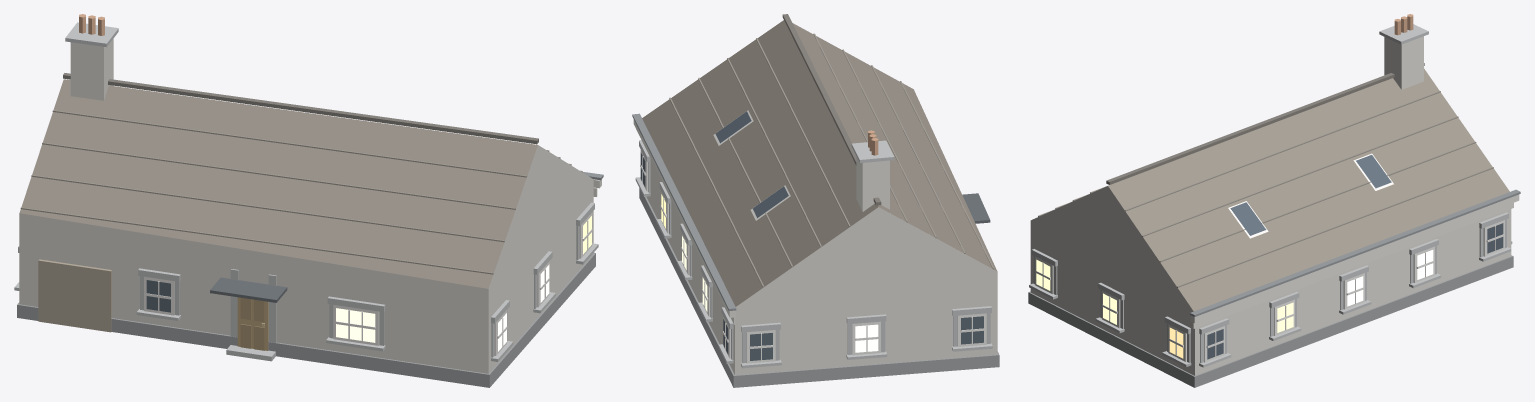
3 views of the same model, side by side, from view 1: azimuth 30°, elevation 25°; view 2: azimuth 150°, elevation 25°; view 3: azimuth 270°, elevation 25° (orthographic). The views are drawn at different scales.
Parts seen in each view (by area): view 1: tile_brown, harl_grey, plinth, stone_band, plaque, door_grey, pend_in, windows, chim_render, frame, slate_dk, door_wood_p (+1 smaller); view 2: tile_brown, harl_grey, plinth, stone_band, plaque, windows, frame, lead, chim_render, pend_in, string, slate_dk; view 3: tile_brown, harl_grey, plinth, stone_band, windows, string, frame, plaque, lead, pend_in, chim_render.
Part boxes in pixels (bbox=[...]): tile_brown: bbox=[19, 79, 537, 288]; harl_grey: bbox=[19, 145, 593, 373]; plinth: bbox=[17, 252, 595, 387]; stone_band: bbox=[14, 22, 598, 361]; plaque: bbox=[20, 110, 582, 274]; door_grey: bbox=[38, 259, 111, 332]; pend_in: bbox=[63, 73, 538, 144]; windows: bbox=[146, 216, 591, 351]; chim_render: bbox=[70, 39, 113, 100]; frame: bbox=[144, 212, 592, 355]; slate_dk: bbox=[210, 277, 287, 302]; door_wood_p: bbox=[240, 297, 264, 350]; tile_brown: bbox=[642, 20, 997, 306]; harl_grey: bbox=[646, 159, 997, 374]; plinth: bbox=[639, 188, 999, 387]; stone_band: bbox=[635, 140, 992, 368]; plaque: bbox=[669, 33, 994, 287]; windows: bbox=[640, 111, 983, 360]; frame: bbox=[640, 110, 986, 363]; lead: bbox=[632, 113, 736, 310]; chim_render: bbox=[856, 156, 889, 211]; pend_in: bbox=[782, 14, 881, 205]; string: bbox=[633, 119, 735, 324]; slate_dk: bbox=[962, 193, 990, 223]; tile_brown: bbox=[1108, 68, 1509, 311]; harl_grey: bbox=[1030, 186, 1511, 375]; plinth: bbox=[1028, 255, 1513, 387]; stone_band: bbox=[1029, 24, 1512, 367]; windows: bbox=[1036, 155, 1503, 359]; string: bbox=[1190, 194, 1519, 328]; frame: bbox=[1035, 153, 1504, 362]; plaque: bbox=[1038, 91, 1493, 287]; lead: bbox=[1190, 189, 1520, 316]; pend_in: bbox=[1106, 63, 1424, 184]; chim_render: bbox=[1384, 36, 1423, 89].
Bounding box in the file's own units: 17.81 × 8.64 × 18.12.
